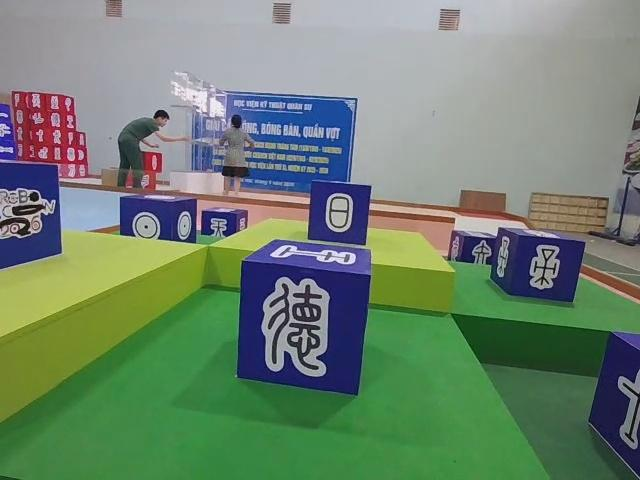R1 Blue: (0, 157, 64, 275)
R2 Fake Blue: (237, 241, 371, 396), (307, 180, 372, 248), (448, 230, 499, 265)
R2 Real Blue: (492, 227, 586, 304), (120, 194, 199, 245), (201, 207, 249, 239)
